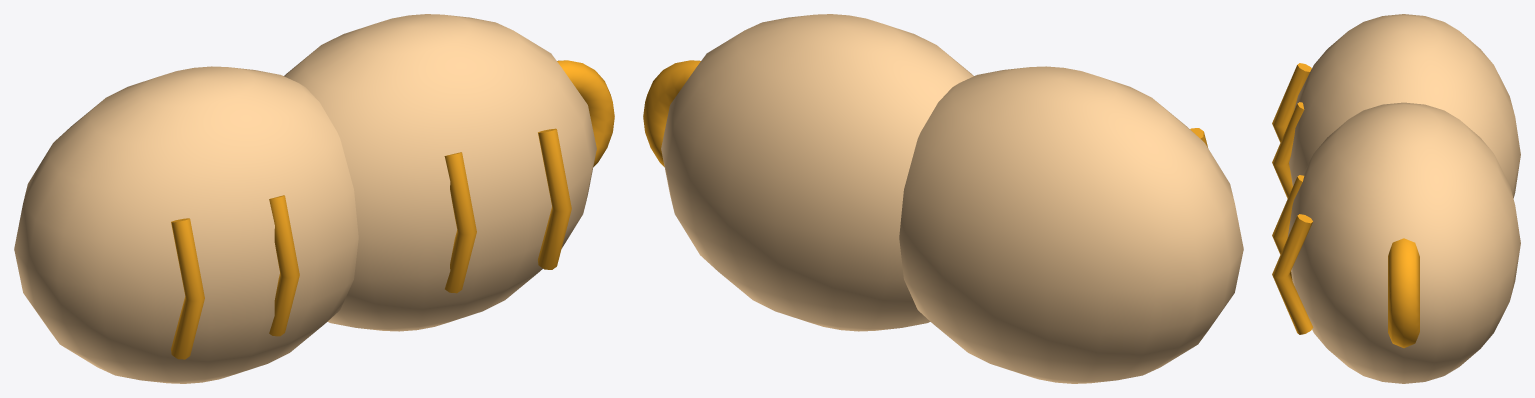
The model's file is jadepeanut.fbx.
3 renders of one model, left to right at view 1: azimuth 30°, elevation 25°; view 2: azimuth 150°, elevation 25°; view 3: azimuth 270°, elevation 25°, orthographic. The views are drawn at different scales.
Visible parts, largest first — view 1: jadepeanut; view 2: jadepeanut; view 3: jadepeanut.
Part boxes in pixels (x1,y1,x2,y2): jadepeanut: (14,14,614,383); jadepeanut: (643,14,1243,383); jadepeanut: (1272,14,1520,383).
Bounding box in the file's own units: 100 × 47.52 × 43.63.
Materials: 1 (1 with a texture image).
